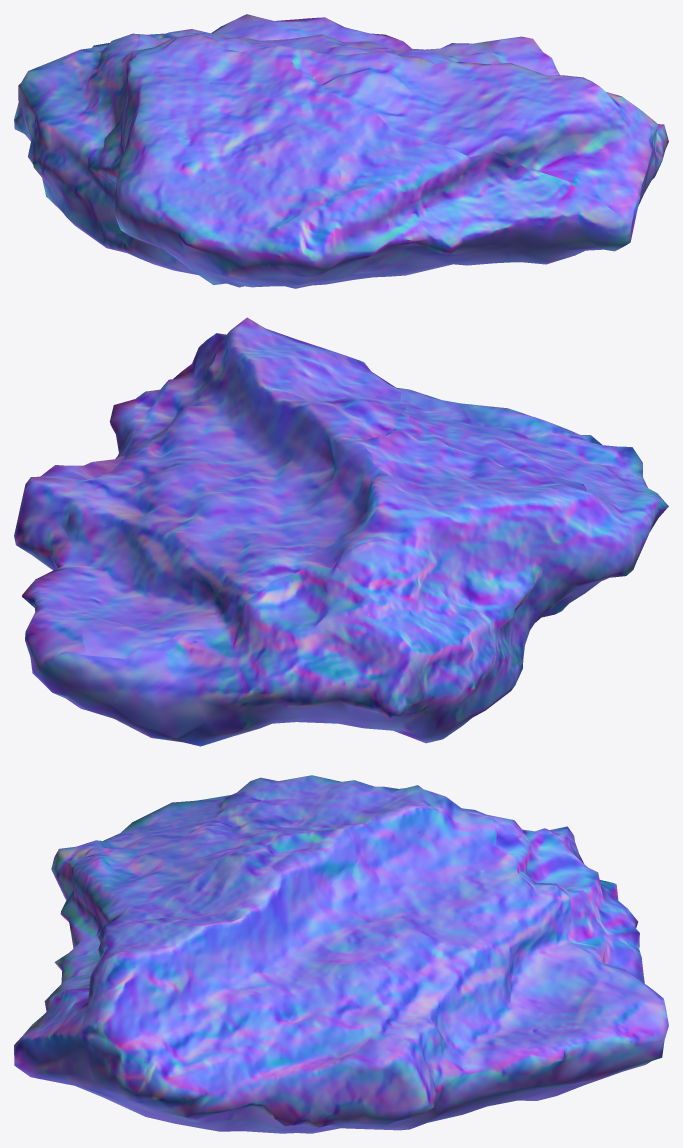
Rendered from Rock004 Moss Variant.fbx.
3 renders of one model, top to bottom at view 1: azimuth 30°, elevation 25°; view 2: azimuth 150°, elevation 25°; view 3: azimuth 270°, elevation 25°, orthographic. The views are drawn at different scales.
Parts seen in each view (by area): view 1: Rock04_LOD0; view 2: Rock04_LOD0; view 3: Rock04_LOD0.
Part boxes in pixels (x1,y1,x2,y2): Rock04_LOD0: (14,14,668,288); Rock04_LOD0: (14,317,668,746); Rock04_LOD0: (14,775,668,1133).
Size of the model in its own units: 97.05 by 39.95 by 102.
